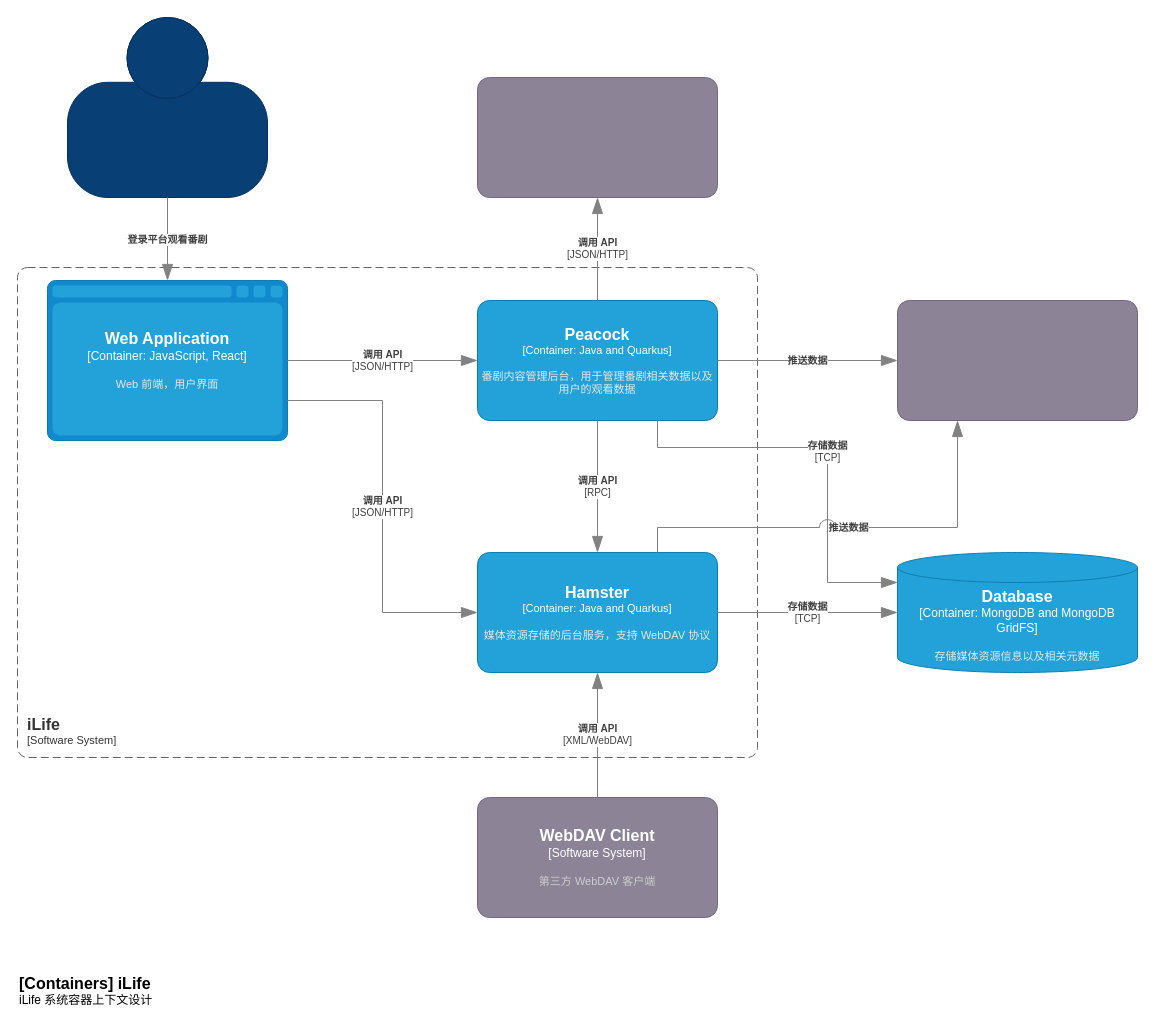
Some shapes in this 1155 by 1026 pixel diagram are drawn without their labels. The shapes that lost their labels are listed below. From the top down, each one's centre as x and y in pixels, then its label:
(167,107): 普通用户 [Person] 目前系统并不划分用户角色，用户可以绑定bangumi帐号信息用于从bangumi平台同步数据
(597,137): bangumi [Software System] 国内较活跃的动漫社区
(1017,360): DevOps System [Software System] 为系统开发提供代码管理、日志收集与分析、性能监控功能
